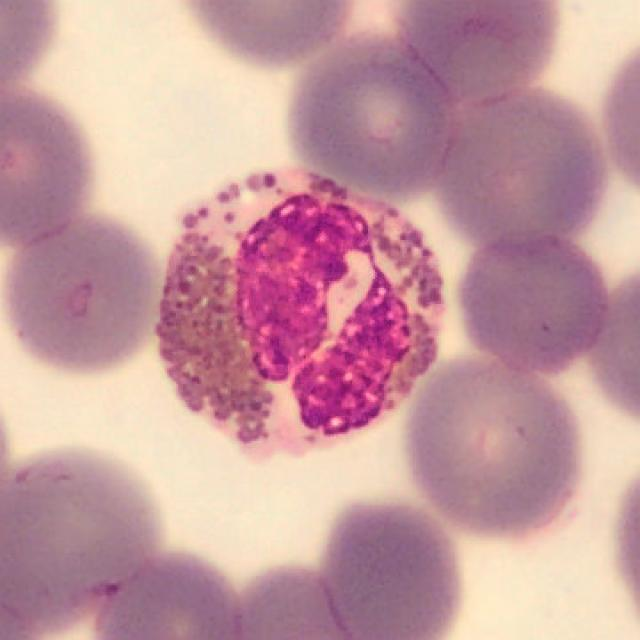Eosinofilo: (158, 167, 448, 459)
